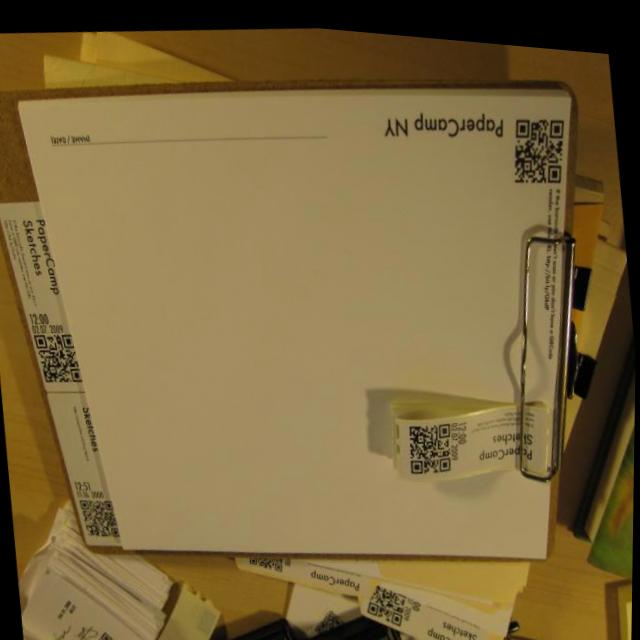qrcode: (509, 105, 570, 177), (407, 411, 456, 469), (34, 330, 84, 384), (366, 574, 411, 623), (80, 494, 122, 538), (314, 600, 349, 630), (86, 624, 139, 640), (251, 549, 285, 570)
